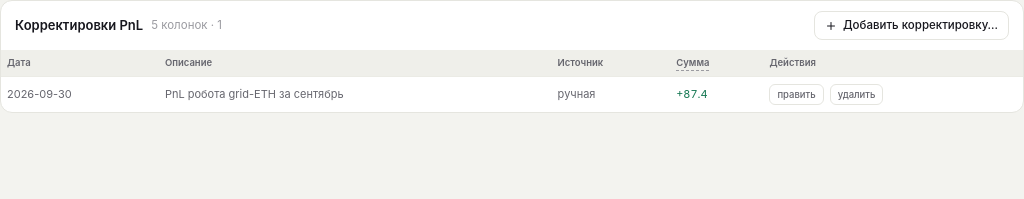
таблица корректировок PnL: подсказки заголовков колонок › даёт подсказку колонке «Сумма» с назначением без метода
# наведение на заголовок колонки суммы.
Step 1. Hover over the button "Сумма" → (693, 63), box [676,56,710,70]
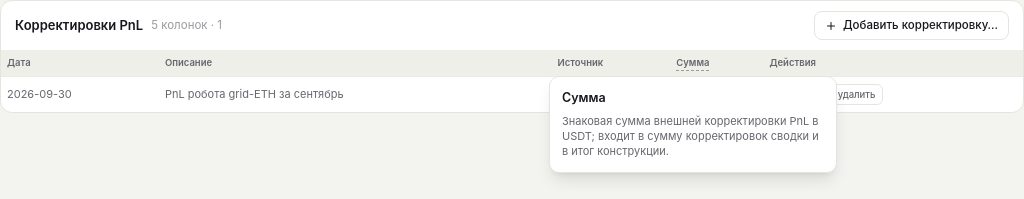
Expected: the tooltip does not show "Сумма реализованного и нереализованного P&L позиций и внешних корректировок PnL.", [549,76,837,173]
Expected: the tooltip shows "Сумма", [562,90,606,105]
Expected: the tooltip shows "Знаковая сумма внешней корректировки PnL в USDT; входит в сумму корректировок сводки и в итог конструкции.", [562,114,819,158]
